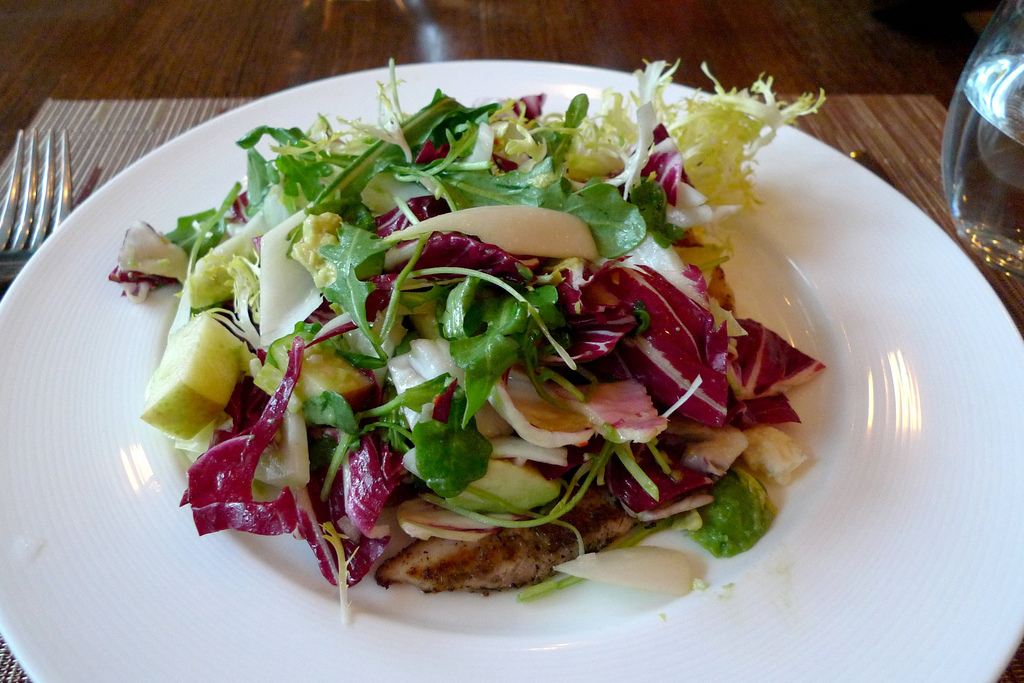chopped lettuce: (291, 141, 732, 577)
